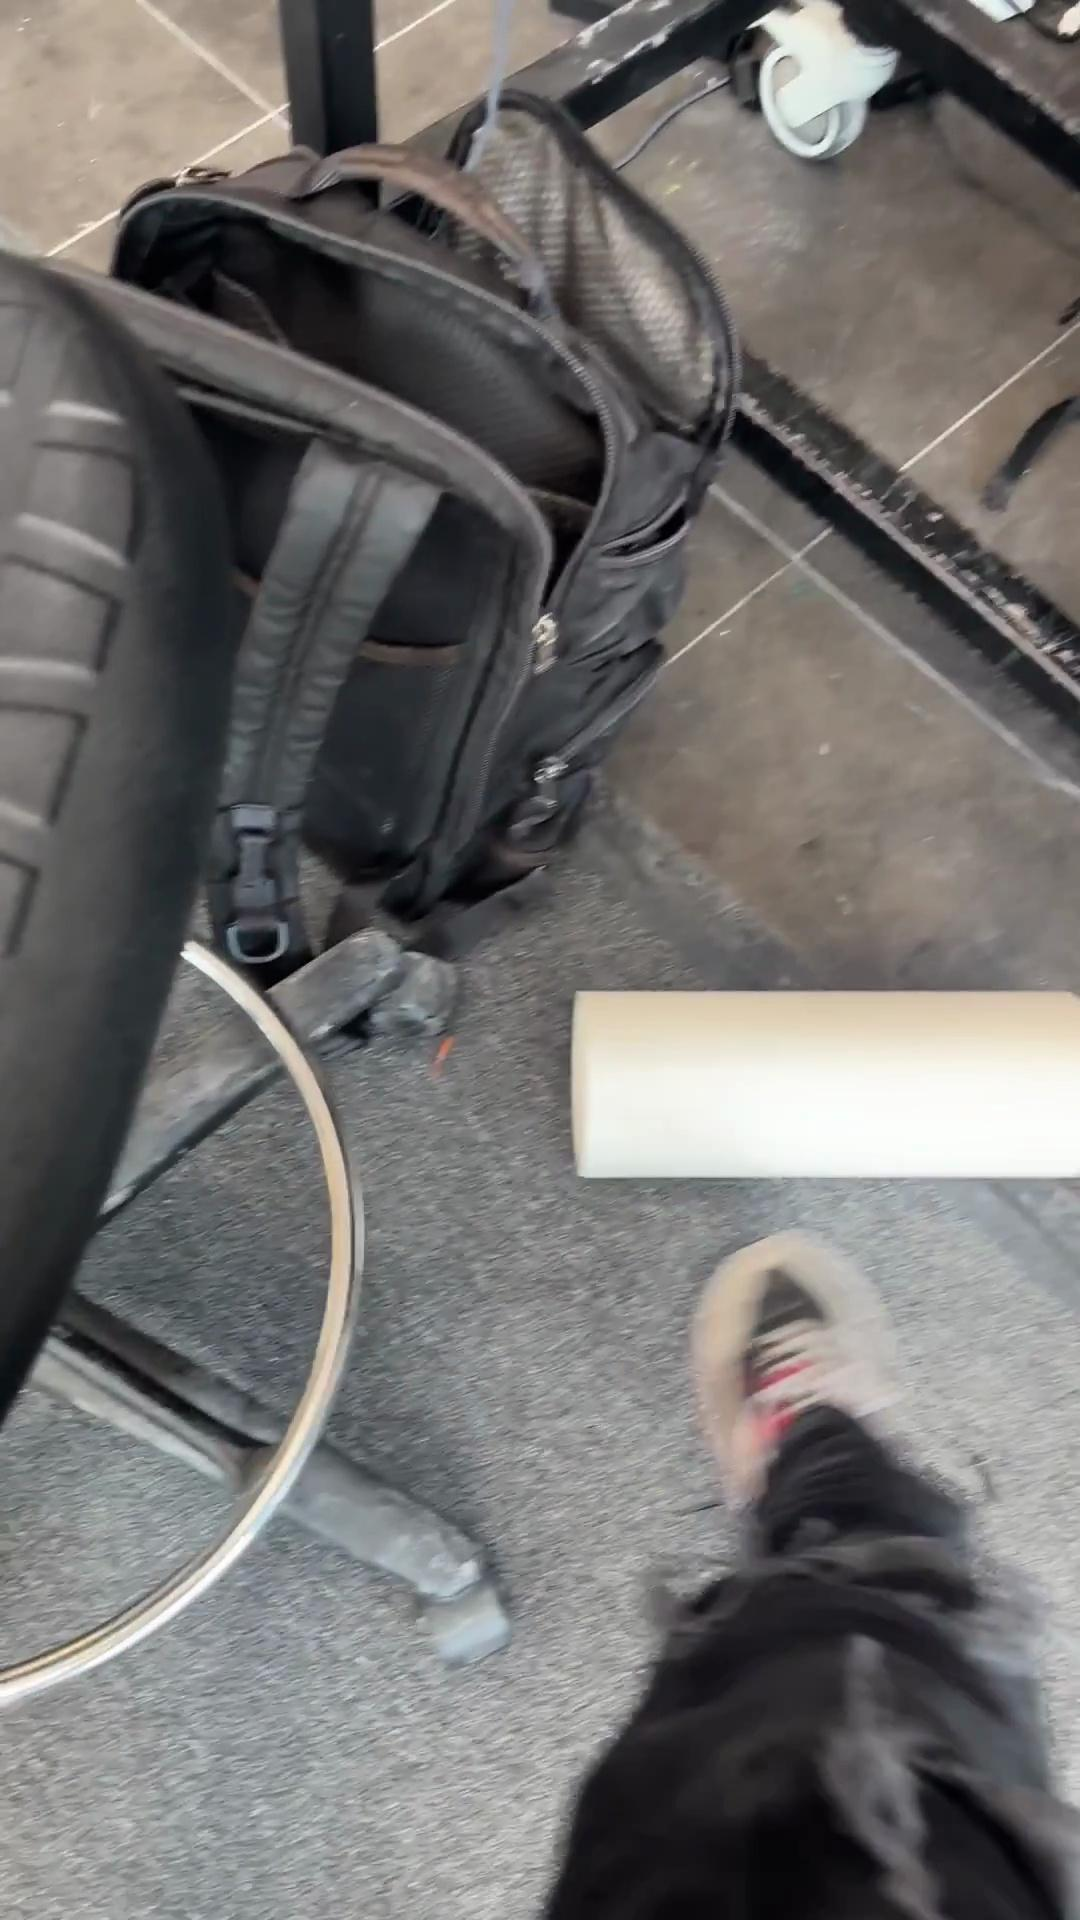CORAL: (567, 984, 1077, 1182)
